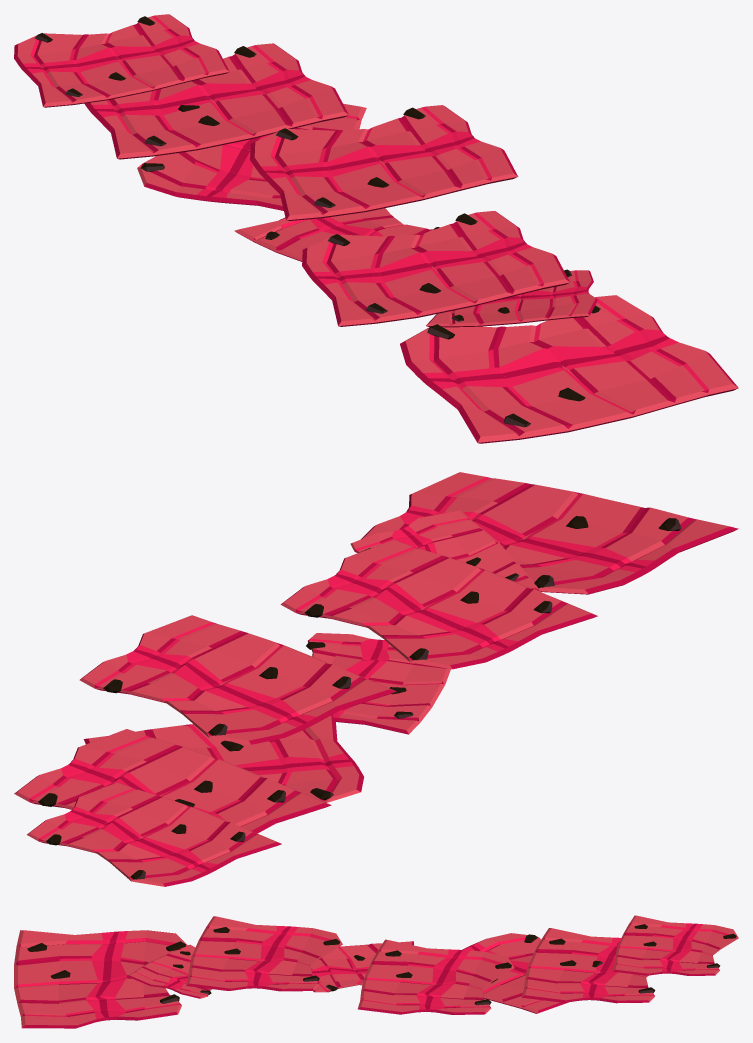
The model's file is Dried food02.fbx.
The picture shows the model from 3 angles, top to bottom: view 1: azimuth 30°, elevation 25°; view 2: azimuth 150°, elevation 25°; view 3: azimuth 270°, elevation 25°; orthographic projection. The views are drawn at different scales.
Parts seen in each view (by area): view 1: Driedfood02; view 2: Driedfood02; view 3: Driedfood02.
Boxes of the visible parts, x1,y1,x2,y2 form: Driedfood02: (14, 14, 738, 443); Driedfood02: (14, 472, 738, 886); Driedfood02: (14, 915, 738, 1028).
Size of the model in its own units: 4.47 by 0.5941 by 13.23.
